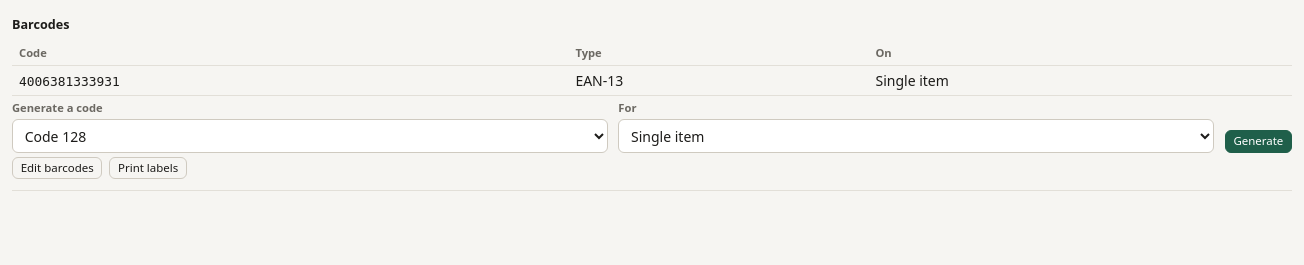
Scenario: barcodes editor › checks the EAN check digit before saving
The image size is (1304, 265).
Click the button "Edit barcodes": (57, 168) x1=12 y1=157 x2=102 y2=179
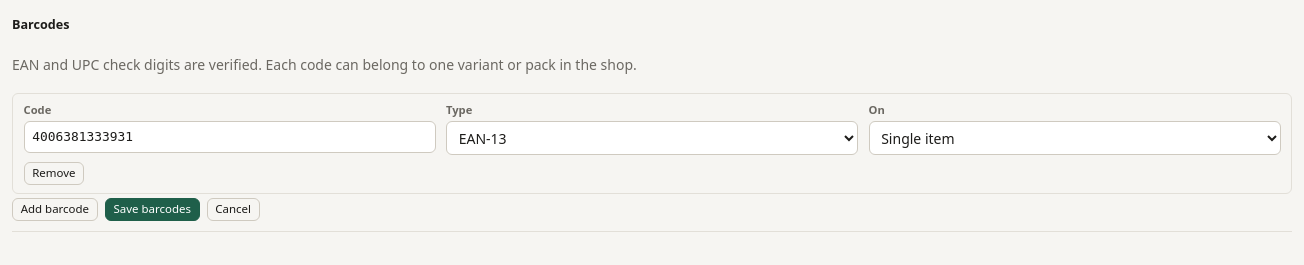
Replace the text in the field labelled "Code" with "4006381333932": (230, 137) x1=24 y1=121 x2=436 y2=153
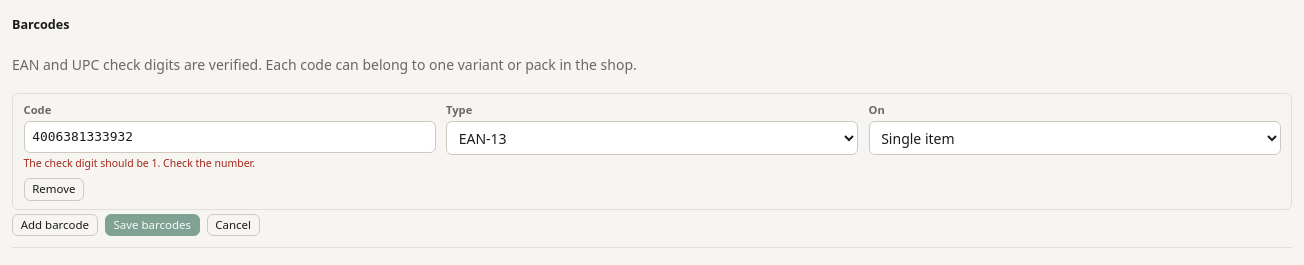
Now the text "The check digit should be 1. Check the number." is shown, box x1=24 y1=156 x2=255 y2=170
Now the button "Save barcodes" is disabled, box x1=105 y1=214 x2=200 y2=236
